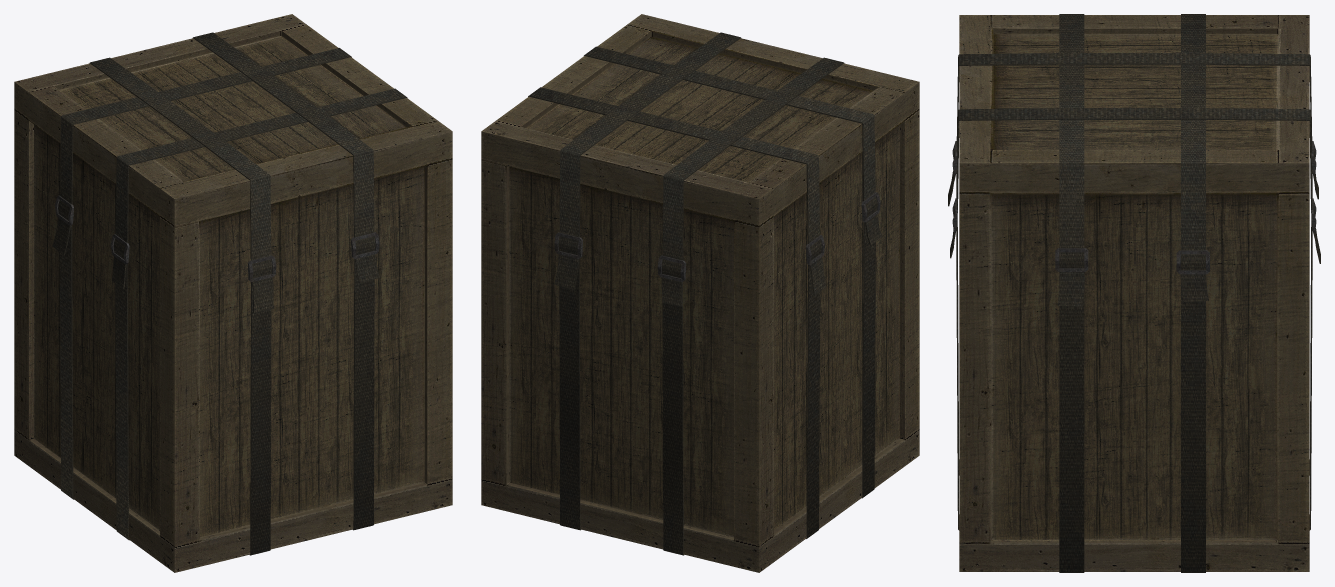
The model's file is wooden_crate_hx_3.glb.
3 renders of one model, left to right at view 1: azimuth 30°, elevation 25°; view 2: azimuth 150°, elevation 25°; view 3: azimuth 270°, elevation 25°, orthographic. The views are drawn at different scales.
Parts seen in each view (by area): view 1: wooden_crate_hx_3; view 2: wooden_crate_hx_3; view 3: wooden_crate_hx_3.
Boxes of the visible parts, x1=… form: wooden_crate_hx_3: x1=14, y1=14, x2=452, y2=572; wooden_crate_hx_3: x1=481, y1=14, x2=919, y2=572; wooden_crate_hx_3: x1=948, y1=14, x2=1320, y2=572.
Bounding box in the file's own units: 1.49 × 1.82 × 1.49.
Materials: 3 (3 with a texture image).
